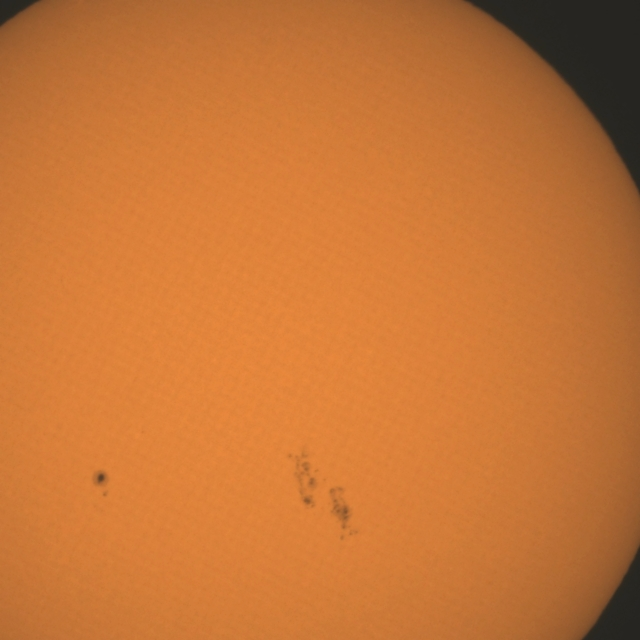sunspot: (295, 476, 354, 522), (288, 448, 328, 494), (327, 482, 353, 534), (331, 498, 360, 542), (91, 469, 111, 499)
